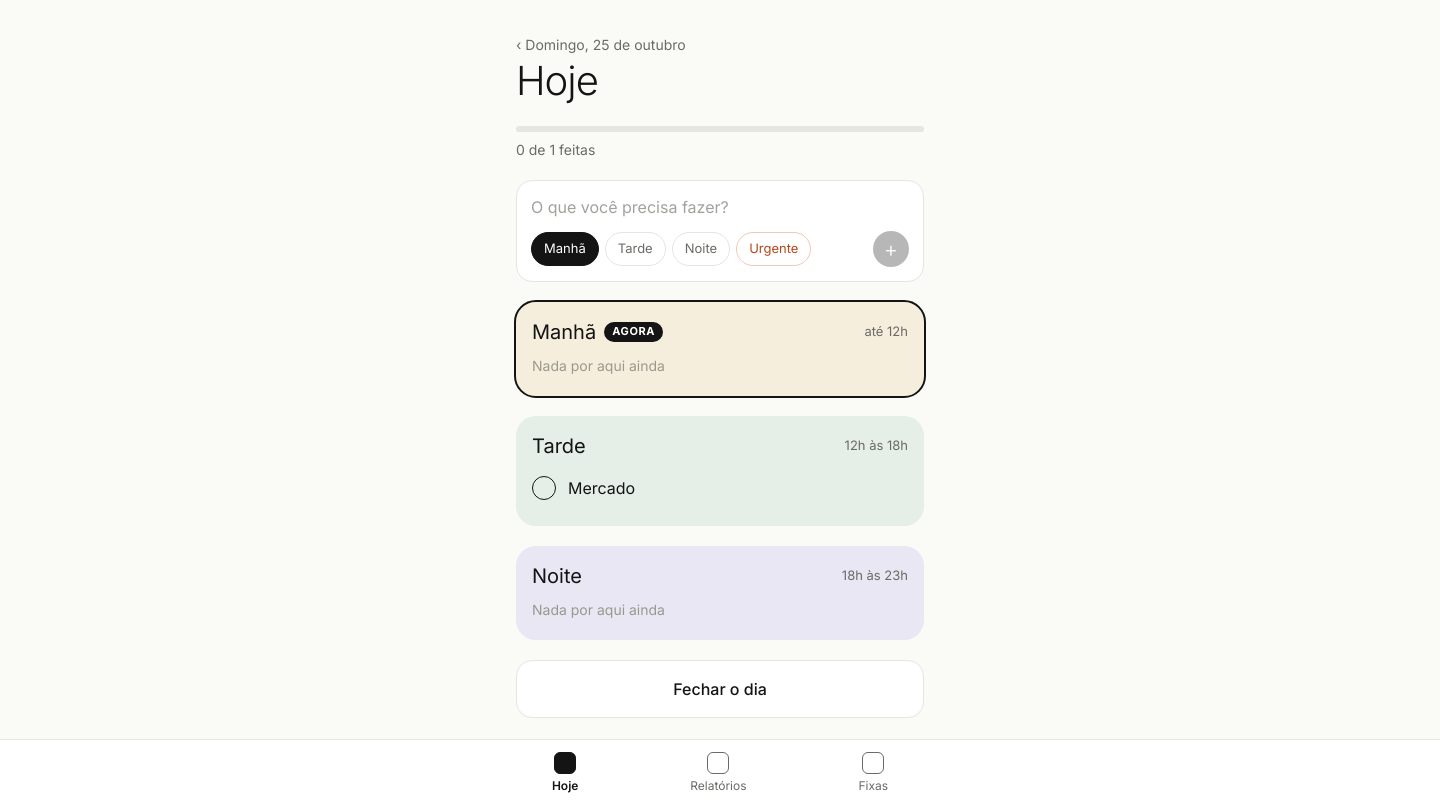
it: J2 e J3: planejar e fazer › quando a API recusa, mostra a mensagem dela (a regra mora no backend)
This screenshot has width=1440, height=810.
Click the button "Mercado" at (602, 488), box [568,476,908,500]
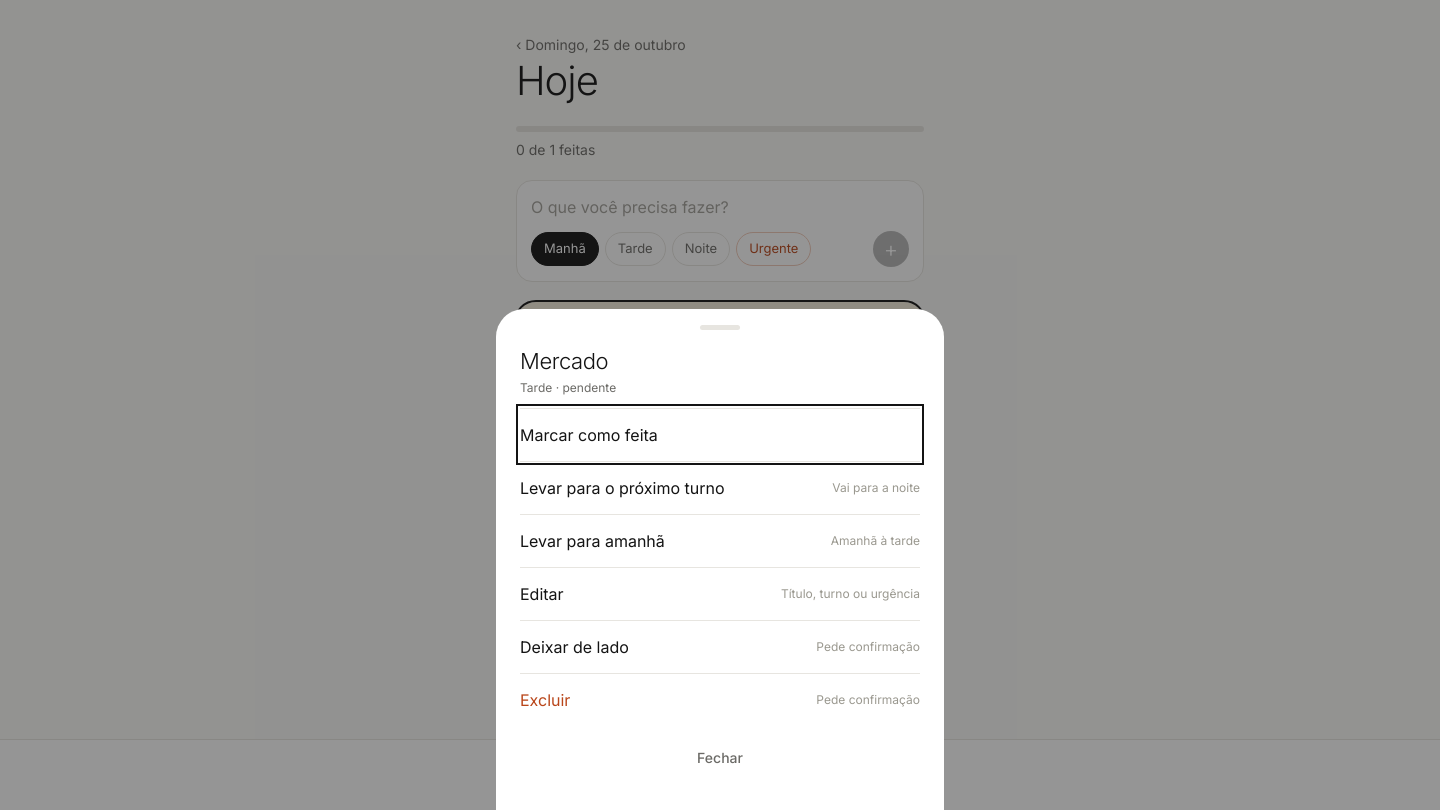
Click the button "Levar para o próximo turno Vai para a noite" at (720, 488), box [520,461,920,514]
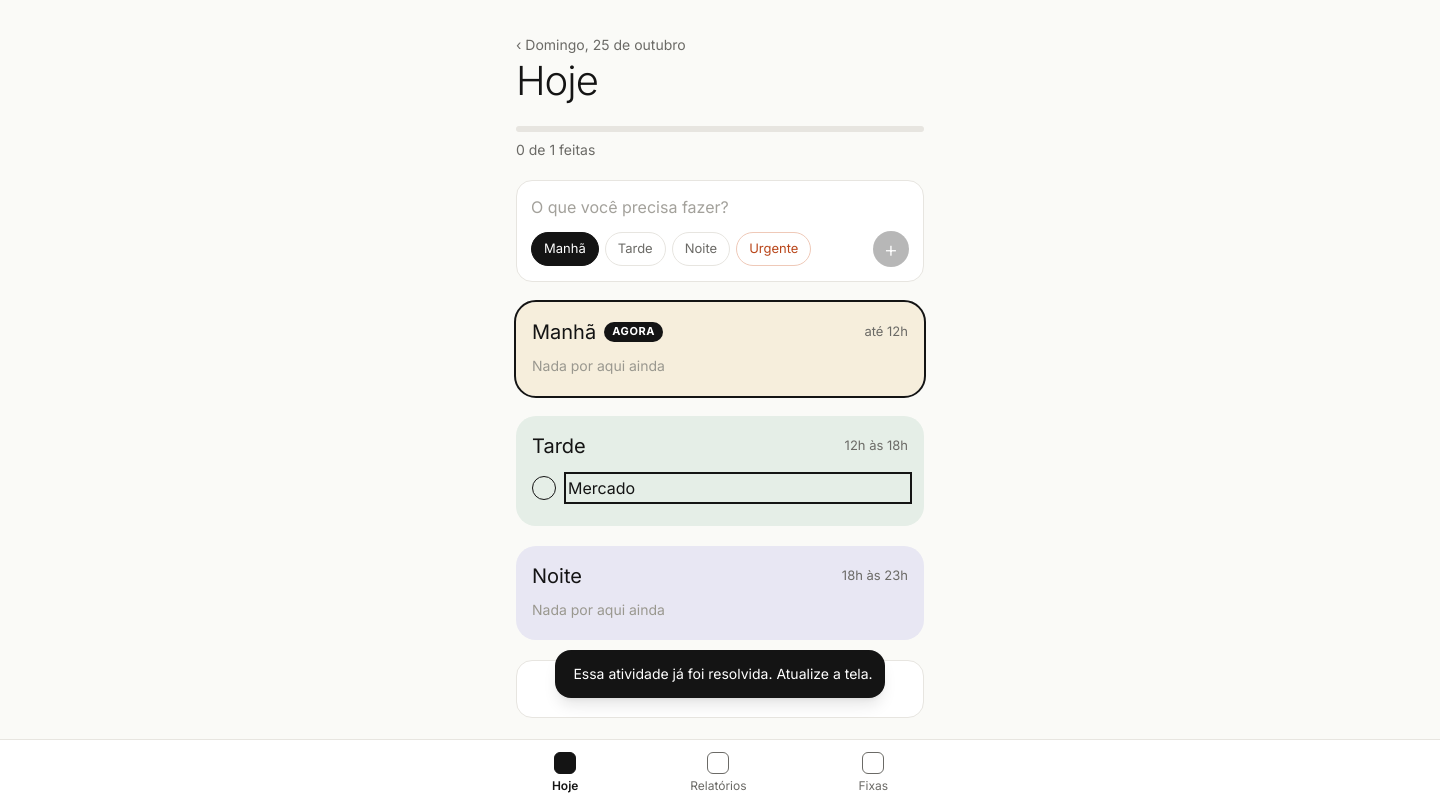
Now the text "Essa atividade já foi resolvida. Atualize a tela." is shown, box [573,664,873,684]
